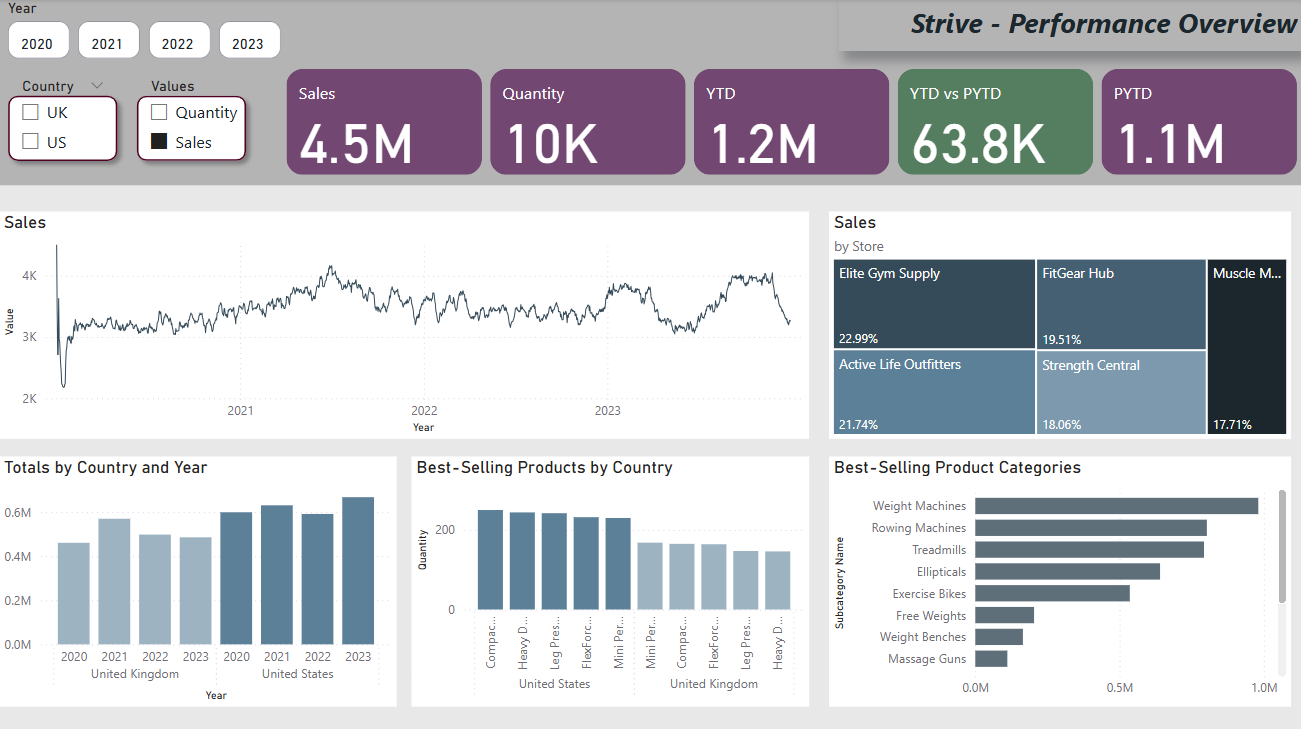

The page's visual inventory and layout, read from the dashboard file:
{"tool":"powerbi","page":{"name":"Page 1","canvas":[1280,720],"ordinal":0},"visuals":[{"type":"shape","box":[0,0,1279.8,182.8],"z":0},{"type":"shape","box":[0,85.6,125.2,82.1],"z":1000,"group":"g2"},{"type":"advancedSlicerVisual","fields":{"Values":["dim_dates.Year"]},"box":[8.6,0,274.8,63.8],"z":2000},{"type":"shape","box":[126.4,85.6,125.2,82],"z":2000,"group":"g1"},{"type":"treemap","fields":{"Group":["dim_stores.store_name"],"Values":["All Measures.Switch Totals"]},"box":[814.7,208.6,454,223],"z":3000},{"type":"slicer","fields":{"Values":["Slicer1.Values"]},"box":[136.8,72.4,104.3,95.7],"z":4000,"group":"g1"},{"type":"clusteredColumnChart","title":"Totals by Country and Year","fields":{"Category":["dim_stores.country_name","dim_dates.Year"],"Y":["All Measures.Switch Totals"]},"box":[0,449.1,390,245.4],"z":4000},{"type":"lineStackedColumnComboChart","title":"Best-Selling Products by Country","fields":{"Category":["dim_stores.country_name","dim_products.product_name"],"Y":["Divide(All Measures.Total Products Sold, ScopedEval(All Measures.Total Products Sold, []))"]},"box":[405.1,449.1,390,245.4],"z":5000},{"type":"barChart","title":"Best-Selling Product Categories","fields":{"Category":["dim_products.category_name","dim_products.subcategory_name","dim_products.product_name"],"Y":["All Measures.Switch Totals"]},"box":[814.7,449.1,454,245.4],"z":6000},{"type":"lineChart","fields":{"Y":["All Measures.Switch Moving Average"],"Category":["dim_dates.Year-Month"]},"box":[0,208.6,795.1,223.3],"z":7000},{"type":"cardVisual","fields":{"Data":["All Measures.Switch Total Sales","All Measures.Switch Quantity","All Measures.Switch_YTD","All Measures.Switch YTD vs PYTD","All Measures.Switch_PYTD"]},"box":[277.3,63.8,1002.5,114.1],"z":8000},{"type":"slicer","fields":{"Values":["Slicer2.Country"]},"box":[9.5,72.4,105.5,85.9],"z":9000,"group":"g2"},{"type":"group","id":"g1","title":"Group 1","box":[126.4,72.4,125.2,95.7],"z":9000},{"type":"group","id":"g2","title":"Group 2","box":[0,72.4,126.4,95.7],"z":10000},{"type":"textbox","box":[824.5,0,455.2,51.5],"z":11000}]}

Visuals, with their boxes in screenshot pixels (x1, y1, x2, y2), scaled from the page's 1280x720 canvas onto the 1301x729 screenshot:
shape: 0/0/1300/185
shape: 0/87/127/170
advancedSlicerVisual - dim_dates.Year: 9/0/288/65
shape: 128/87/256/170
treemap - dim_stores.store_name x All Measures.Switch Totals: 828/211/1290/437
slicer - Slicer1.Values: 139/73/245/170
"Totals by Country and Year" clusteredColumnChart: 0/455/396/703
"Best-Selling Products by Country" lineStackedColumnComboChart: 412/455/808/703
"Best-Selling Product Categories" barChart: 828/455/1290/703
lineChart - All Measures.Switch Moving Average x dim_dates.Year-Month: 0/211/808/437
cardVisual - All Measures.Switch Total Sales x All Measures.Switch Quantity: 282/65/1300/180
slicer - Slicer2.Country: 10/73/117/160
"Group 1" group: 128/73/256/170
"Group 2" group: 0/73/128/170
textbox: 838/0/1300/52
